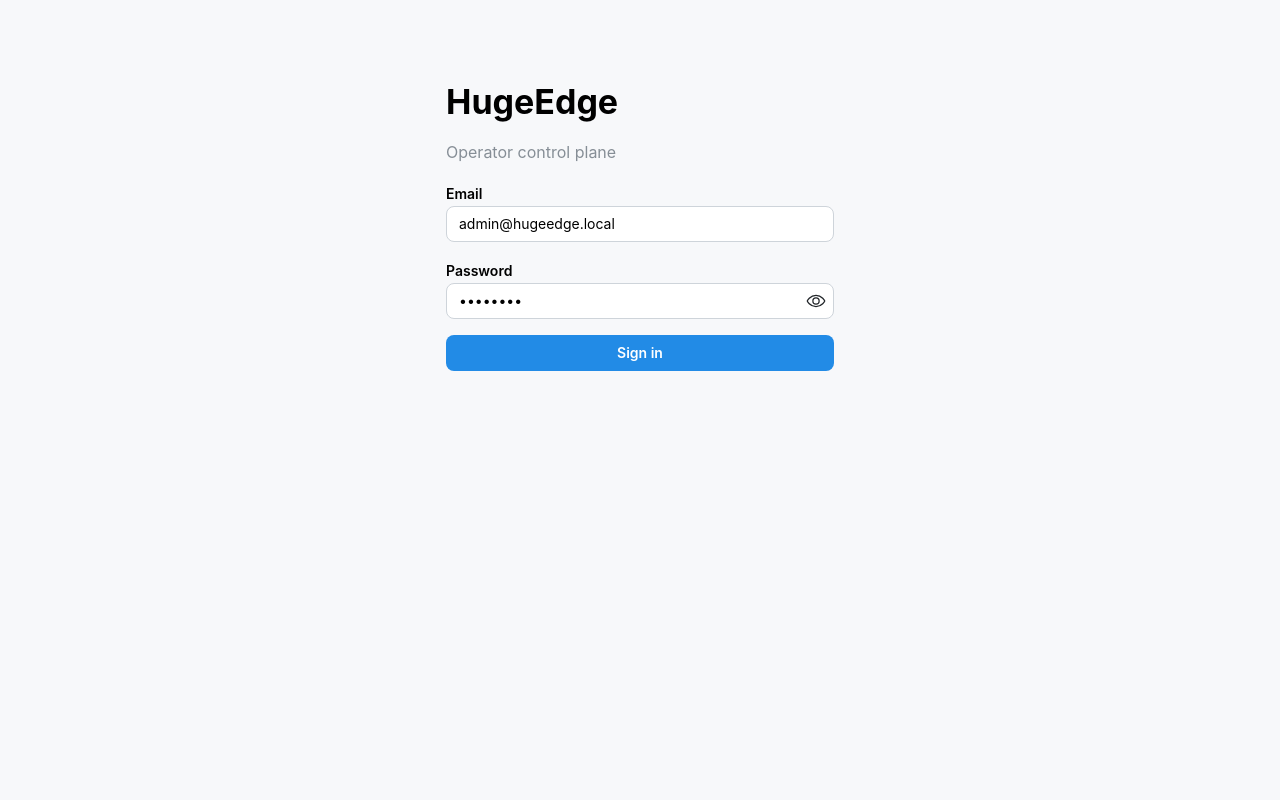
Test: web app routes › completes the real login flow and lands on overview
The width and height of the screenshot is (1280, 800).
Step 1. Click the button "Sign in" → point(640, 353), box [446,335,834,371]
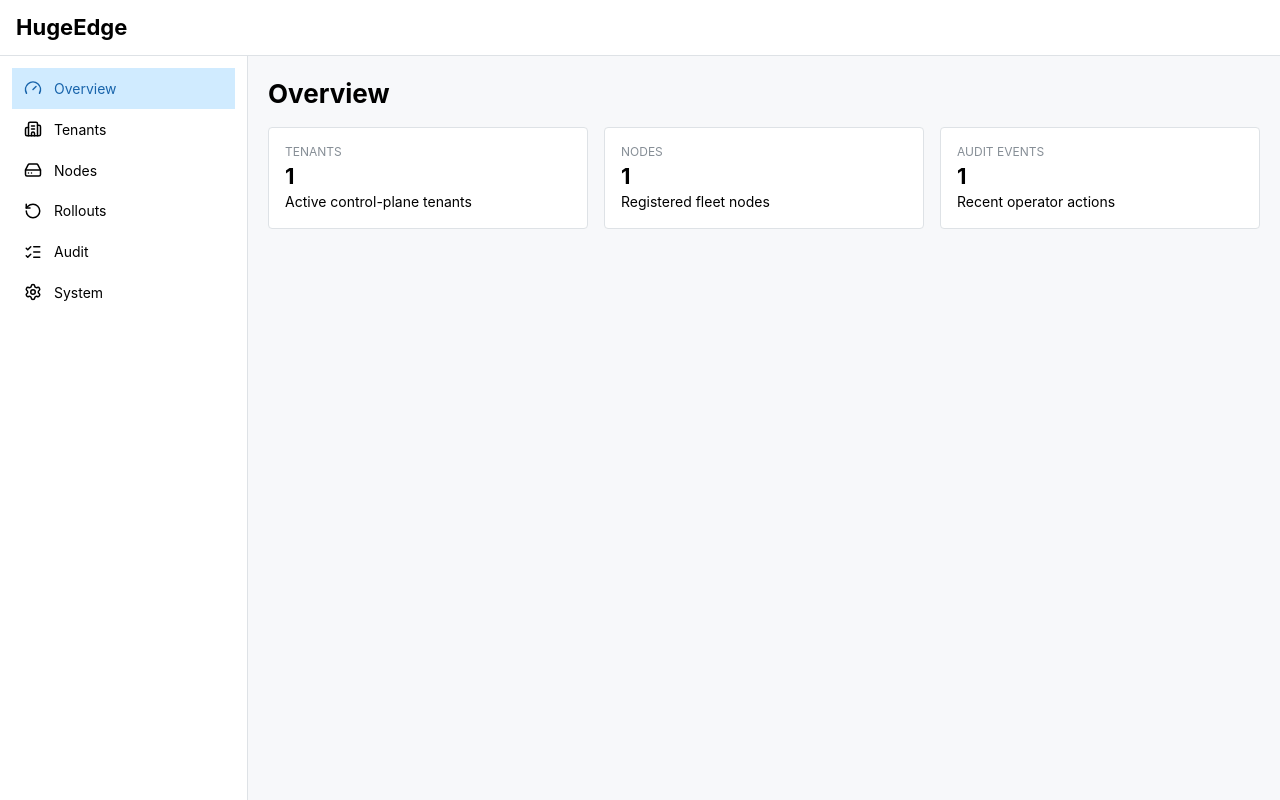
Expected: the heading "Overview" is shown, [268,78,390,109]
